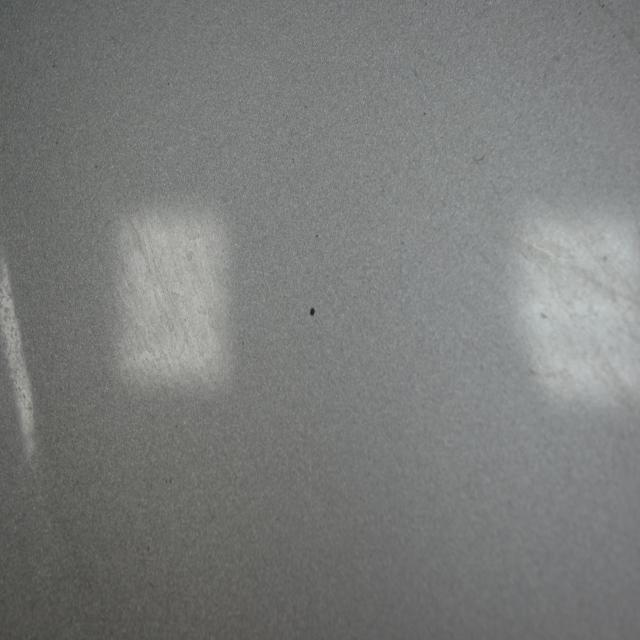dirt: (308, 300, 318, 320)
water marks: (91, 202, 236, 386), (520, 228, 638, 407)
